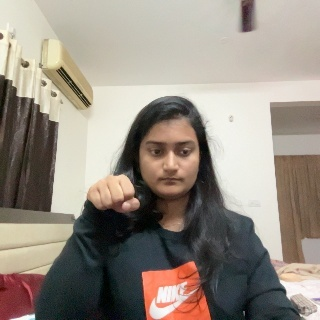Yes: (89, 163, 141, 237)
